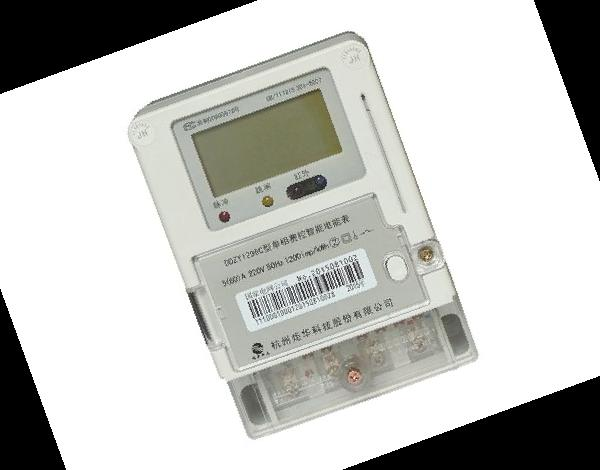digital: (126, 40, 450, 381)
